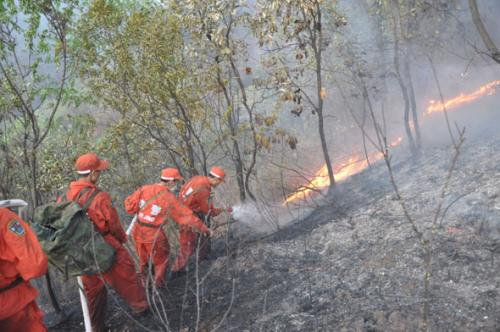fire: (294, 164, 366, 185)
smoke: (251, 51, 417, 138), (425, 48, 499, 85), (424, 116, 500, 149)
